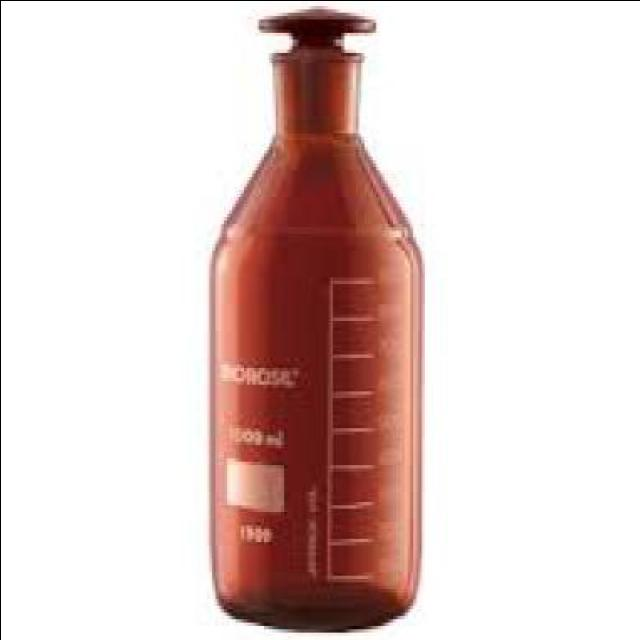kaca: (206, 2, 421, 628)
